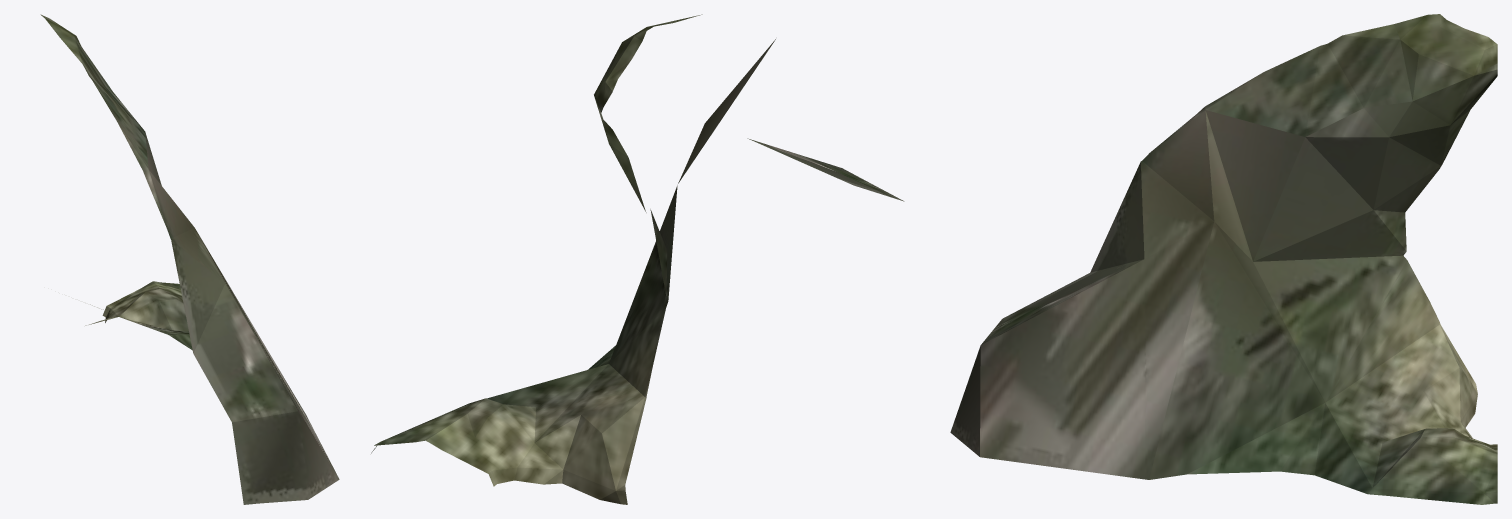
3 renders of one model, left to right at view 1: azimuth 30°, elevation 25°; view 2: azimuth 150°, elevation 25°; view 3: azimuth 270°, elevation 25°, orthographic. The views are drawn at different scales.
Bounding box in the file's own units: 1.89 × 3.37 × 4.29.
Materials: 1 (1 with a texture image).
